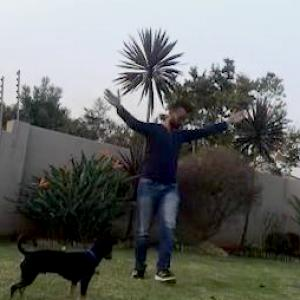takeoff: (118, 68, 271, 270)
